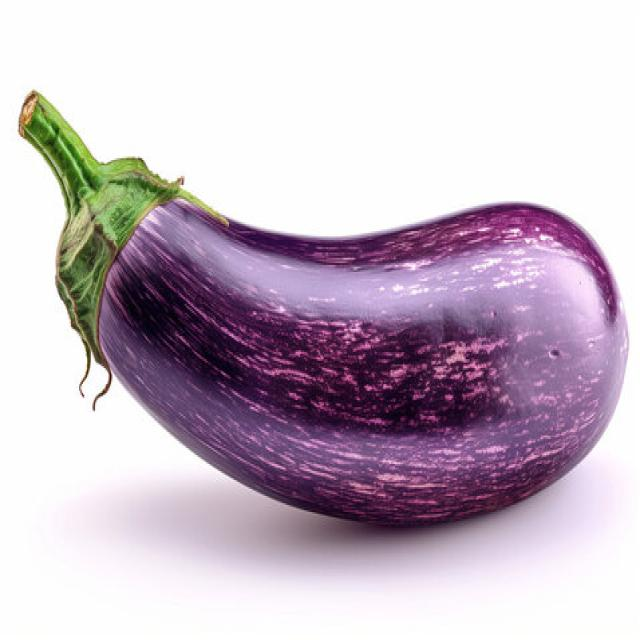Eggplant: (18, 87, 630, 528)
